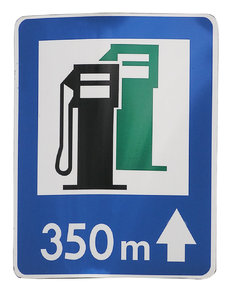fuel-station: (12, 12, 217, 278)
